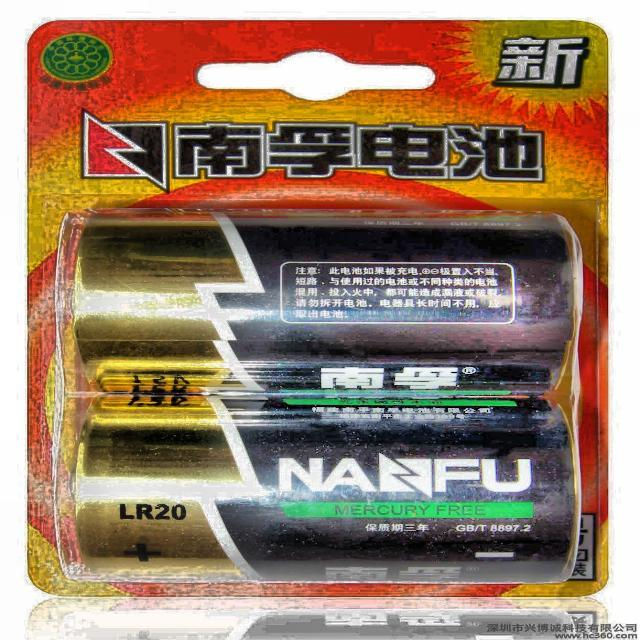battery: (62, 210, 581, 395), (65, 398, 579, 582)
